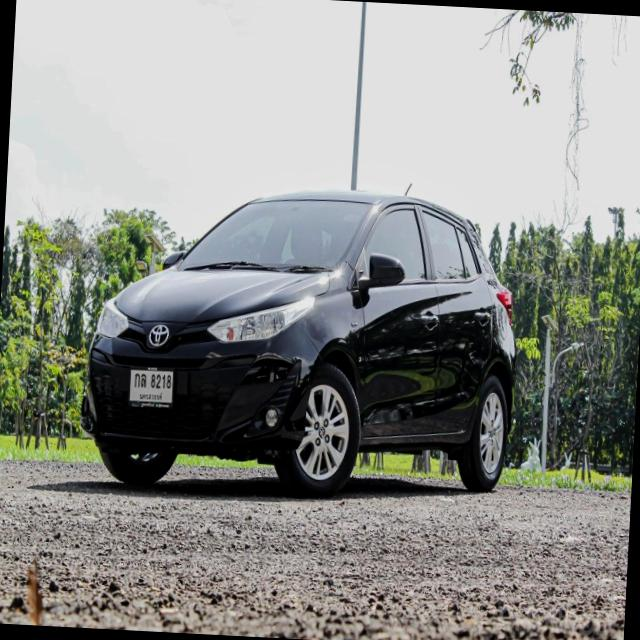license_plate: (122, 358, 183, 417)
